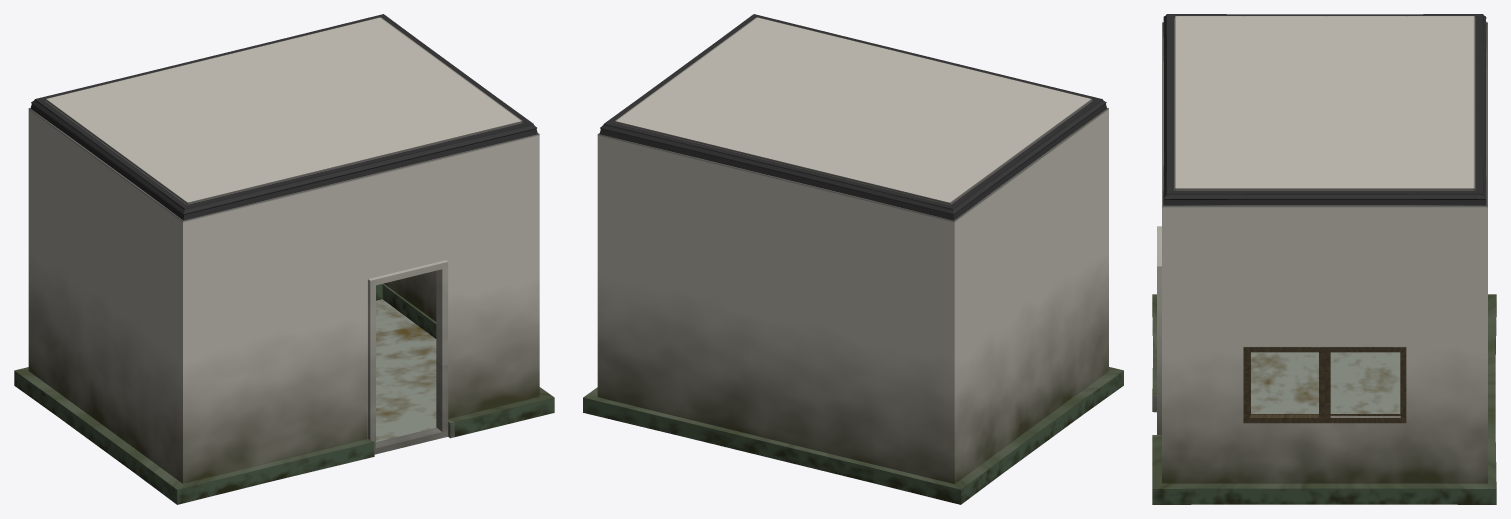
The model's file is Room.fbx.
3 renders of one model, left to right at view 1: azimuth 30°, elevation 25°; view 2: azimuth 150°, elevation 25°; view 3: azimuth 270°, elevation 25°, orthographic. The views are drawn at different scales.
Parts seen in each view (by area): view 1: Room; view 2: Room; view 3: Room.
Part boxes in pixels (x1,y1,x2,y2): Room: (14, 14, 554, 504); Room: (583, 14, 1123, 504); Room: (1152, 14, 1496, 504).
Bounding box in the file's own units: 422 × 309 × 316.
1 material, 1 textured.
